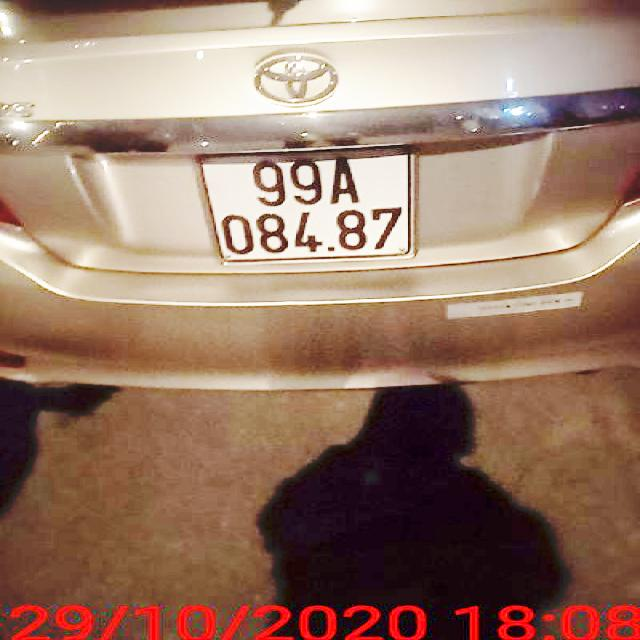license_plate: (202, 148, 413, 262)
